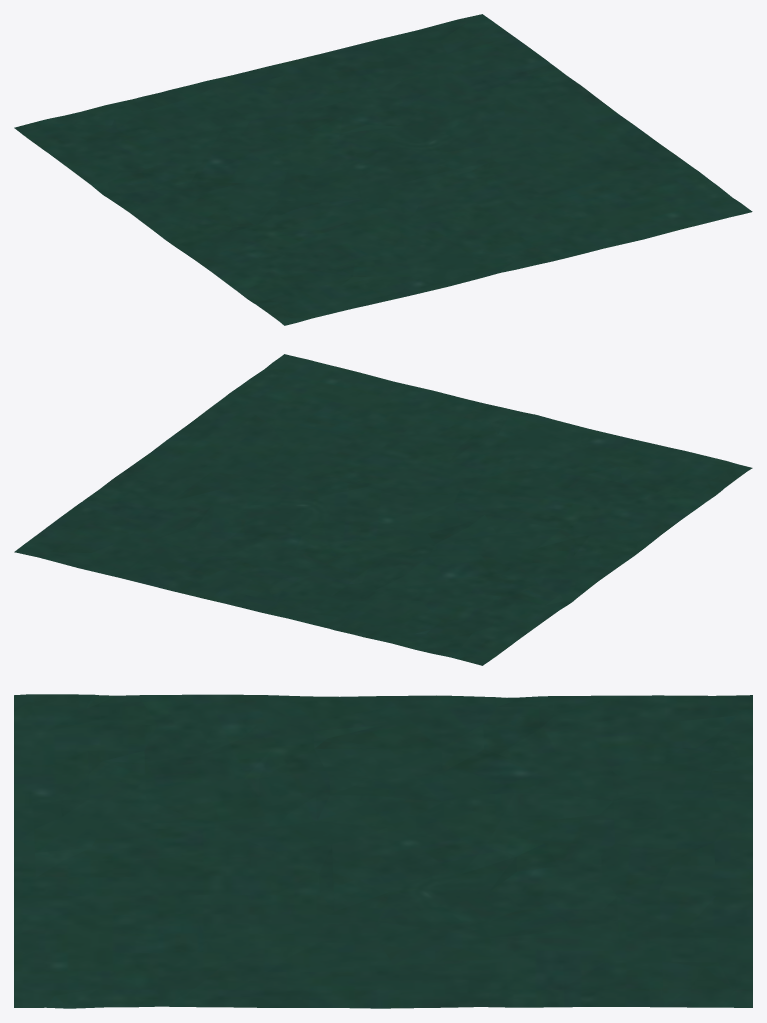
3 renders of one model, top to bottom at view 1: azimuth 30°, elevation 25°; view 2: azimuth 150°, elevation 25°; view 3: azimuth 270°, elevation 25°, orthographic. The views are drawn at different scales.
Size of the model in its own units: 52.22 by 0.3904 by 52.22.
2 materials, 2 textured.
